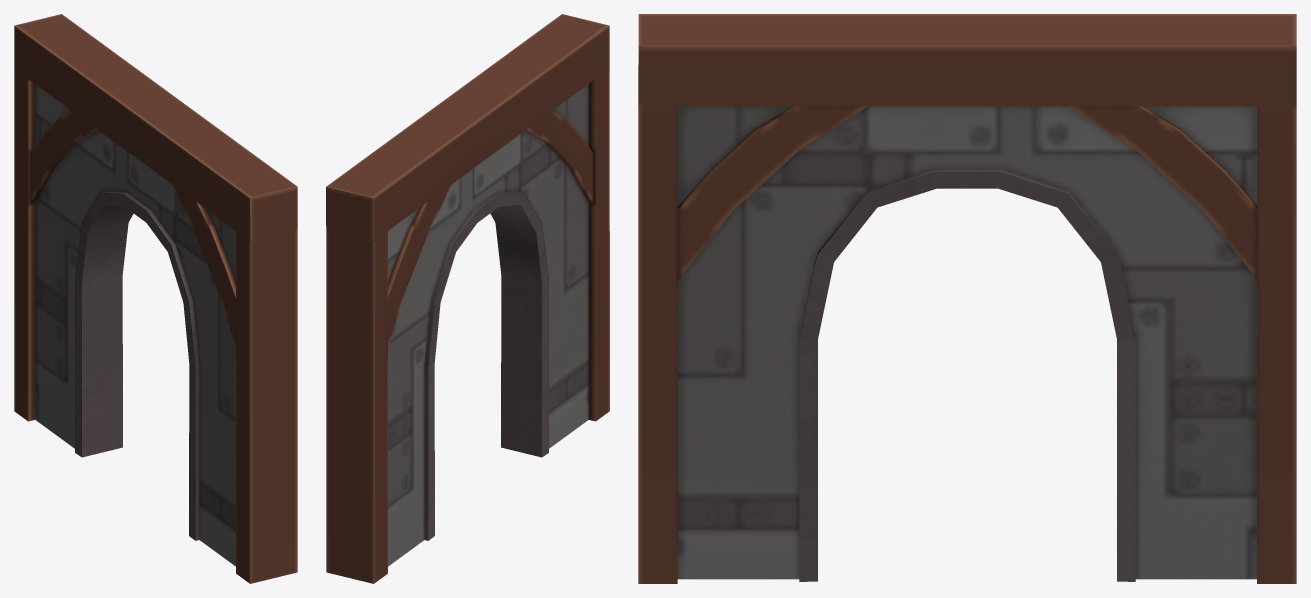
File: TileSet11_WallDoor.fbx
3 renders of one model, left to right at view 1: azimuth 30°, elevation 25°; view 2: azimuth 150°, elevation 25°; view 3: azimuth 270°, elevation 25°, orthographic. The views are drawn at different scales.
Visible parts, largest first — view 1: Interior_Navio:polySurface93; view 2: Interior_Navio:polySurface93; view 3: Interior_Navio:polySurface93.
Part boxes in pixels (x1,y1,x2,y2): Interior_Navio:polySurface93: (14,14,297,583); Interior_Navio:polySurface93: (326,14,609,583); Interior_Navio:polySurface93: (638,14,1296,583).
Size of the model in its own units: 0.465 by 3.6 by 3.99.
Materials: 2 (2 with a texture image).
